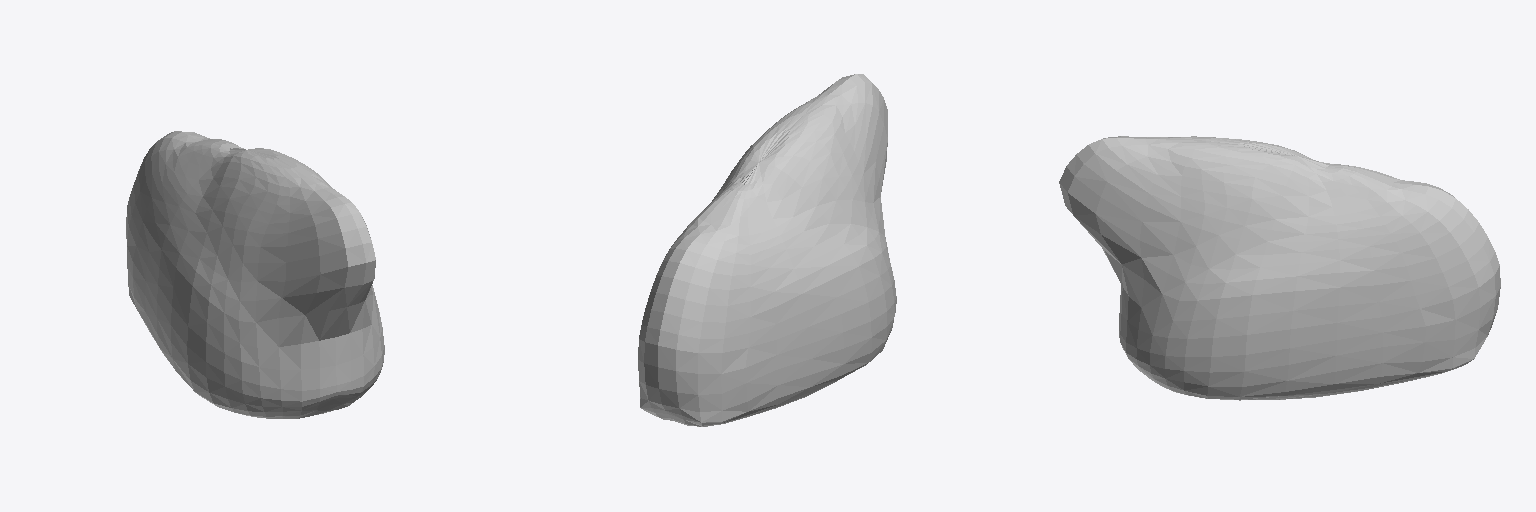
The model's file is 1Anthro vag base.obj.
3 renders of one model, left to right at view 1: azimuth 30°, elevation 25°; view 2: azimuth 150°, elevation 25°; view 3: azimuth 270°, elevation 25°, orthographic.
Parts seen in each view (by area): view 1: vag_base.005_Mesh1_Component_4_1_Component_6_1_Model.011; view 2: vag_base.005_Mesh1_Component_4_1_Component_6_1_Model.011; view 3: vag_base.005_Mesh1_Component_4_1_Component_6_1_Model.011.
Part boxes in pixels (x1,y1,x2,y2): vag_base.005_Mesh1_Component_4_1_Component_6_1_Model.011: (126,131,384,418); vag_base.005_Mesh1_Component_4_1_Component_6_1_Model.011: (638,74,896,426); vag_base.005_Mesh1_Component_4_1_Component_6_1_Model.011: (1059,136,1500,400).
Bounding box in the file's own units: 1.87 × 2.46 × 4.16.